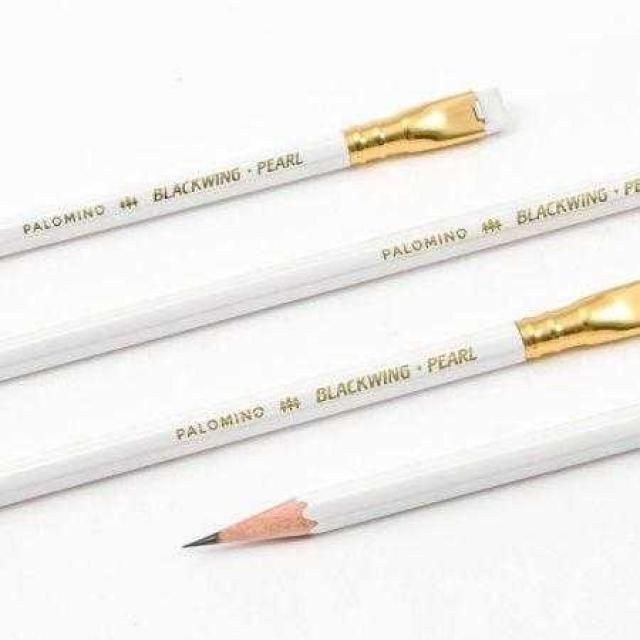pencil: (9, 274, 639, 519), (7, 168, 639, 387), (0, 76, 516, 272), (158, 383, 639, 560)
